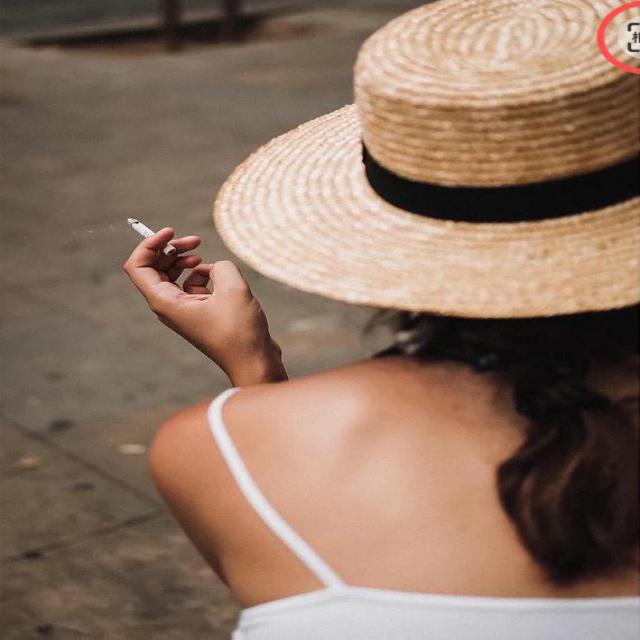Сигарета: (128, 217, 177, 255)
